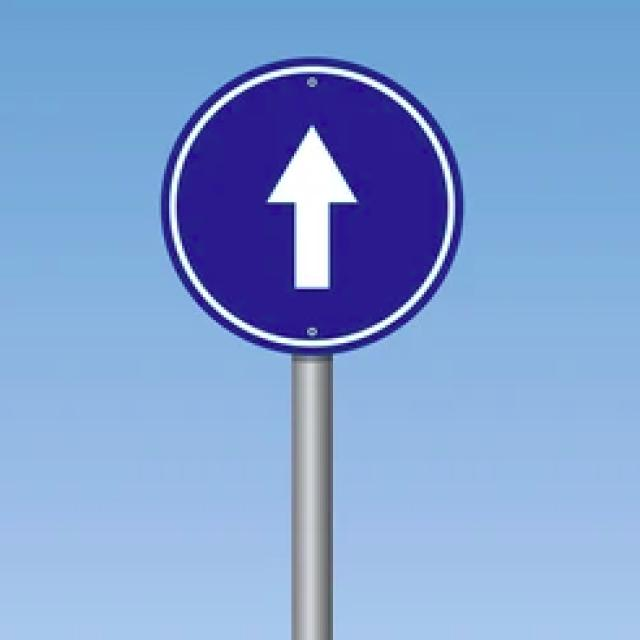STRAIGHT: (161, 59, 460, 351)
